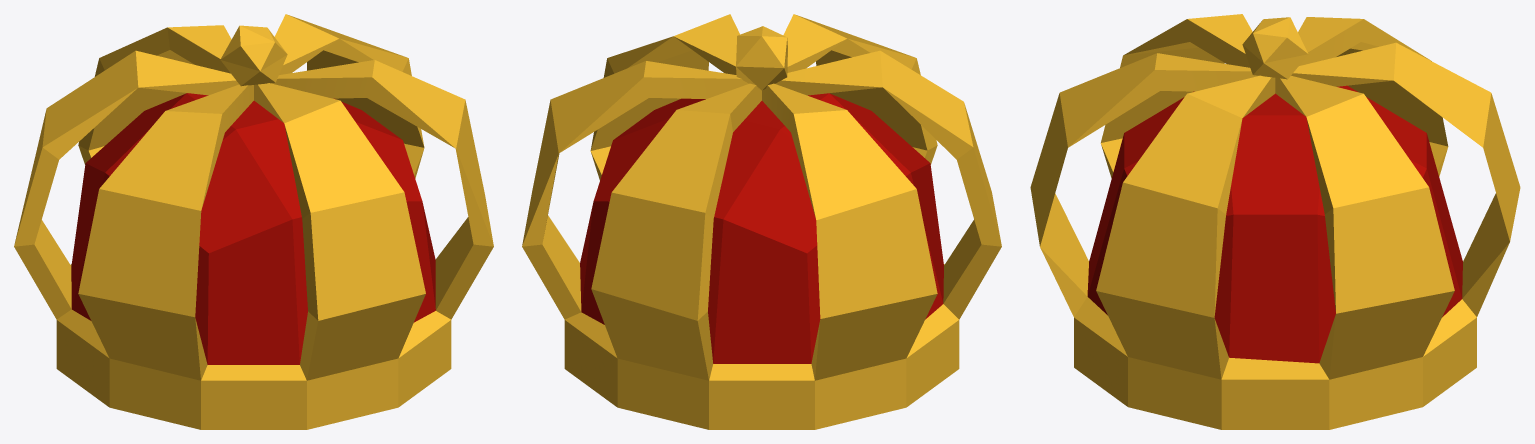
Rendered from hat_crown.glb.
3 views of the same model, side by side, from view 1: azimuth 30°, elevation 25°; view 2: azimuth 150°, elevation 25°; view 3: azimuth 270°, elevation 25° (orthographic). The views are drawn at different scales.
Visible parts, largest first — view 1: Lp_CrownHat02; view 2: Lp_CrownHat02; view 3: Lp_CrownHat02.
Boxes of the visible parts, x1,y1,x2,y2 form: Lp_CrownHat02: (14, 14, 493, 429); Lp_CrownHat02: (522, 14, 1001, 429); Lp_CrownHat02: (1030, 14, 1520, 429).
Bounding box in the file's own units: 0.345 × 0.2558 × 0.3505.
1 material, 1 textured.
